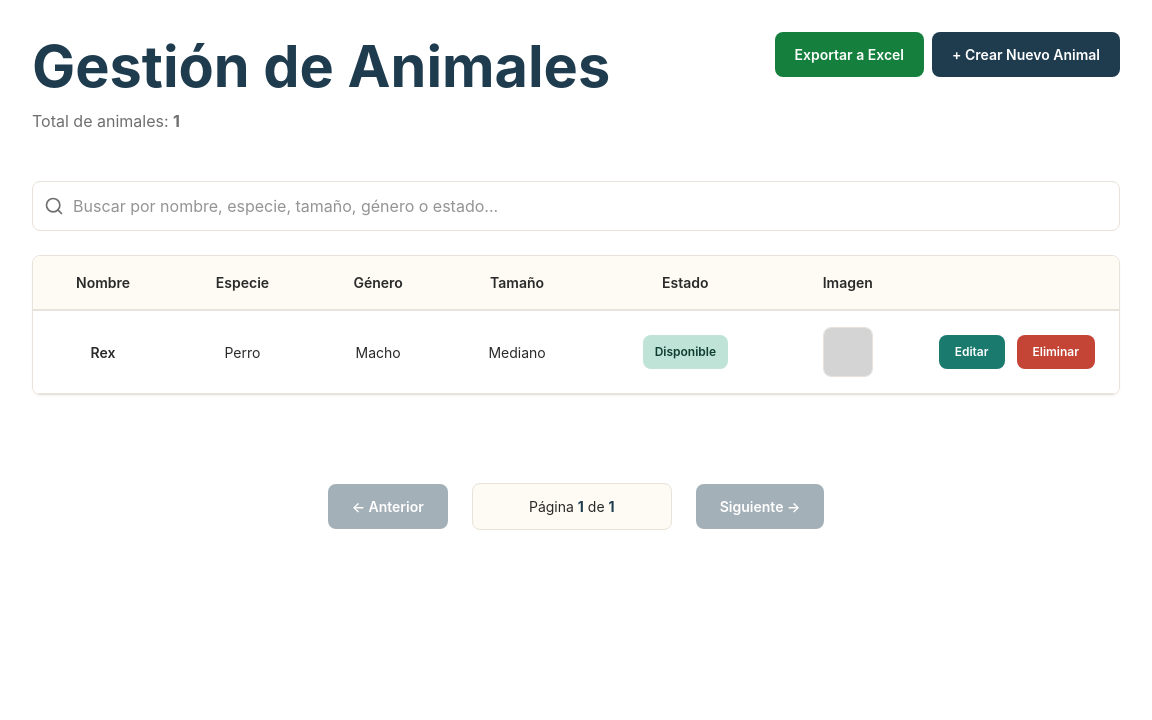
delete modal › closes modal on cancel without removing animal
The image size is (1152, 720).
Click the button "Eliminar".
click(1056, 352)  # box left=1016, top=335, right=1095, bottom=369
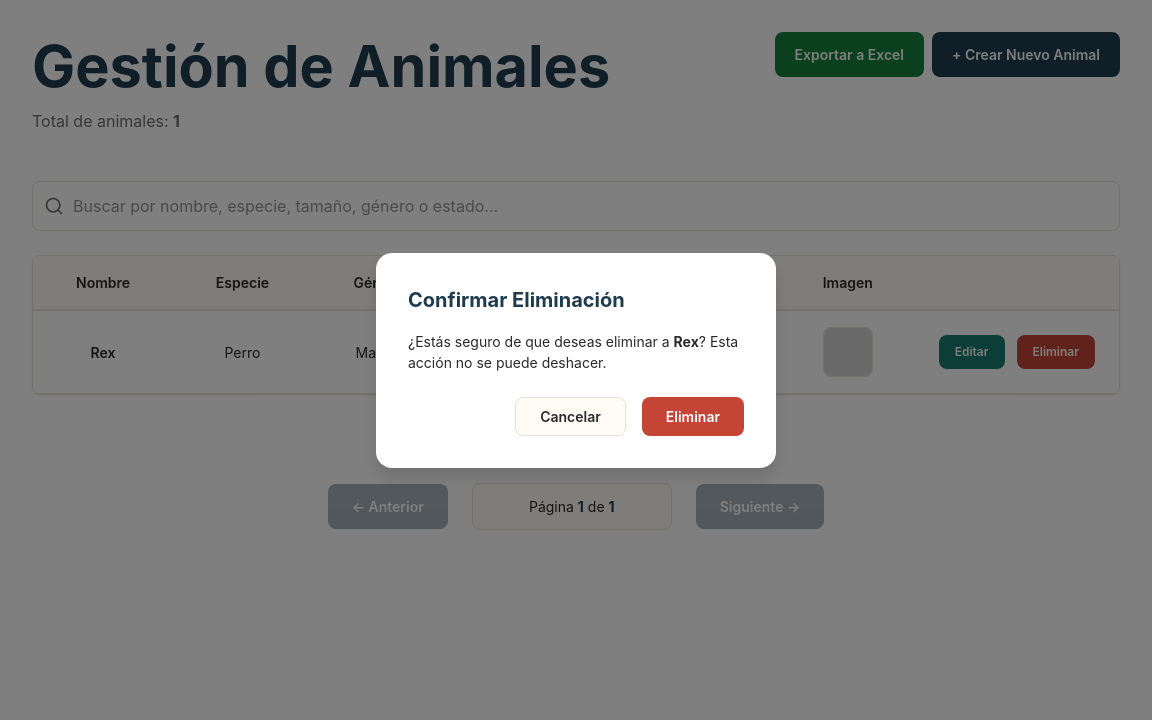
Click the button "Cancelar".
click(570, 416)  # box left=515, top=396, right=626, bottom=436
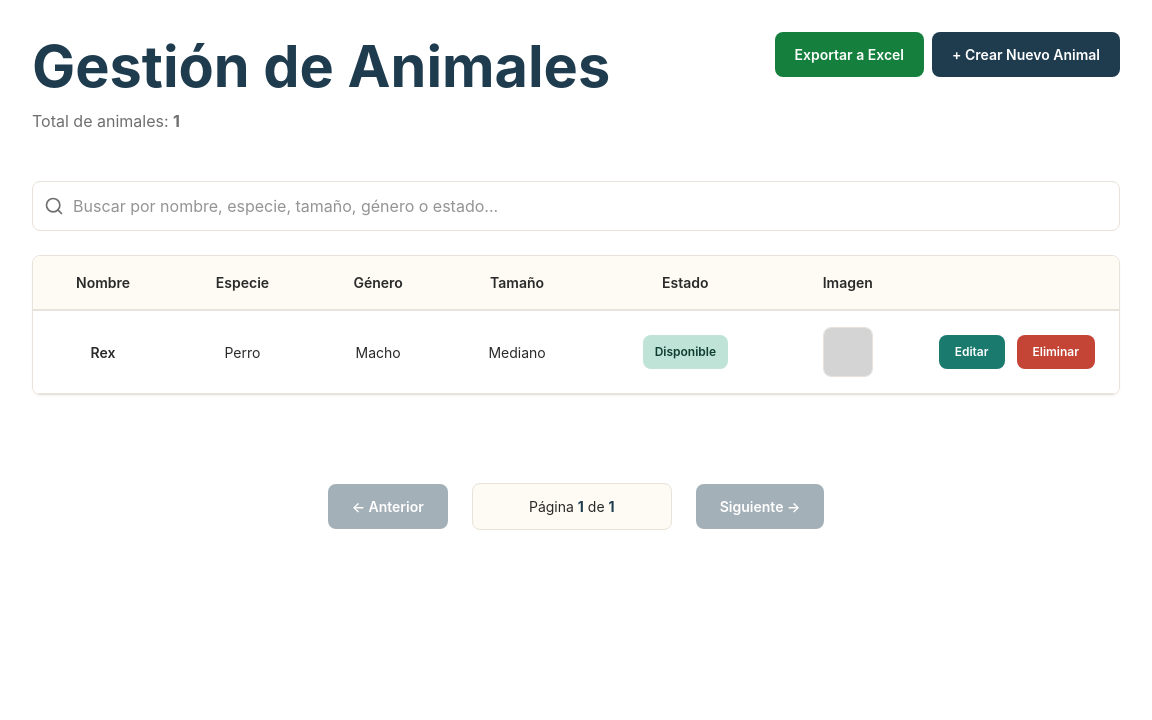
Check: the text "Rex" is shown, box left=33, top=310, right=173, bottom=394
Check: the heading "Confirmar Eliminación" is gone
